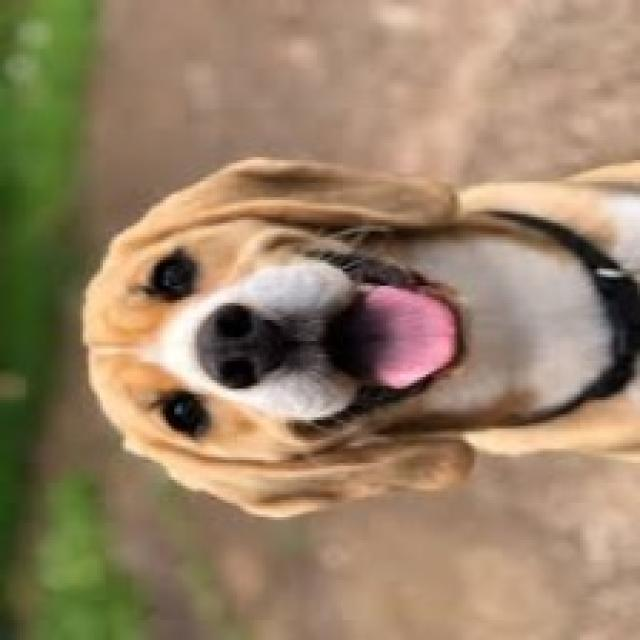bear: (77, 90, 623, 545)
